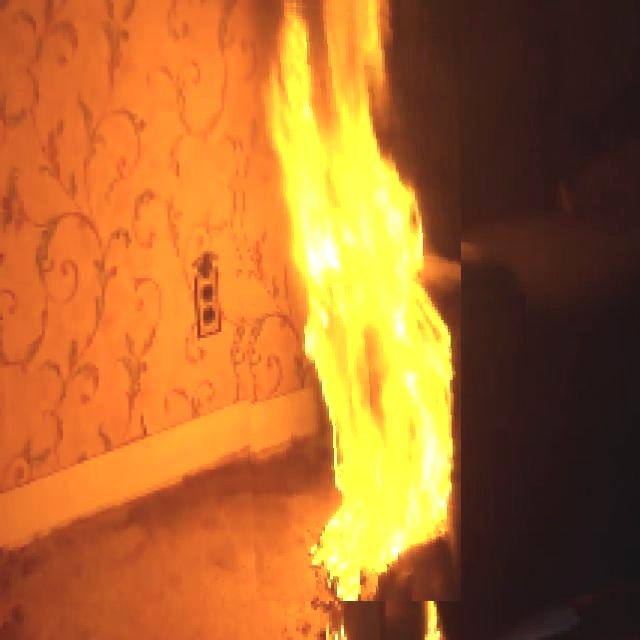fire: (230, 1, 472, 543)
